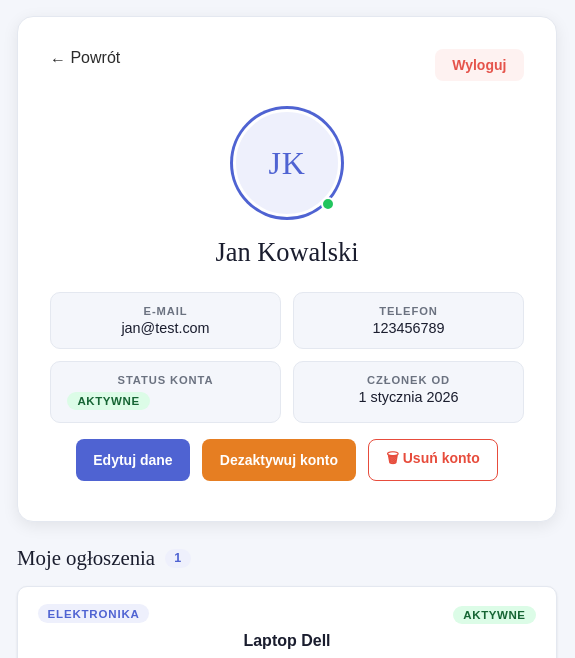
Test: UserProfile › przechodzi do trybu edycji po kliknięciu Edytuj dane
Expected: the heading "Jan Kowalski" is shown, [216,237,358,268]
Click the button "Edytuj dane" at (133, 460), box [76,439,190,481]
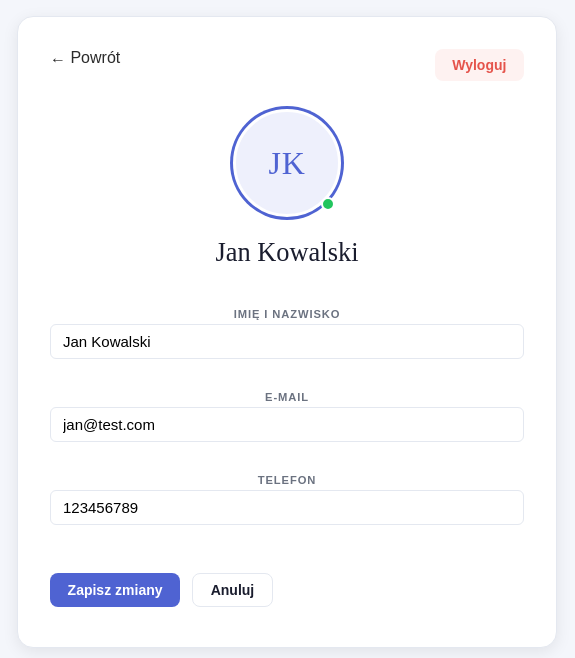
Now the field showing "Jan Kowalski" is shown, box [50,324,524,359]
Now the field showing "jan@test.com" is shown, box [50,407,524,442]
